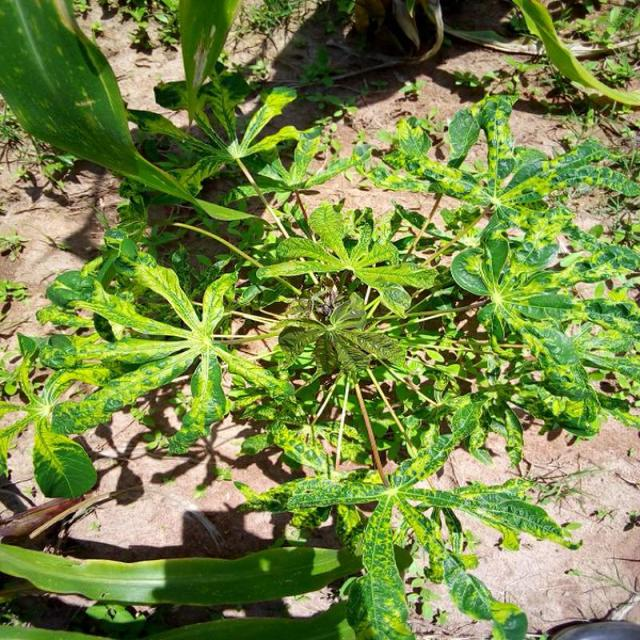cassava leaf: (2, 1, 640, 638), (2, 0, 272, 229), (2, 540, 366, 607)
